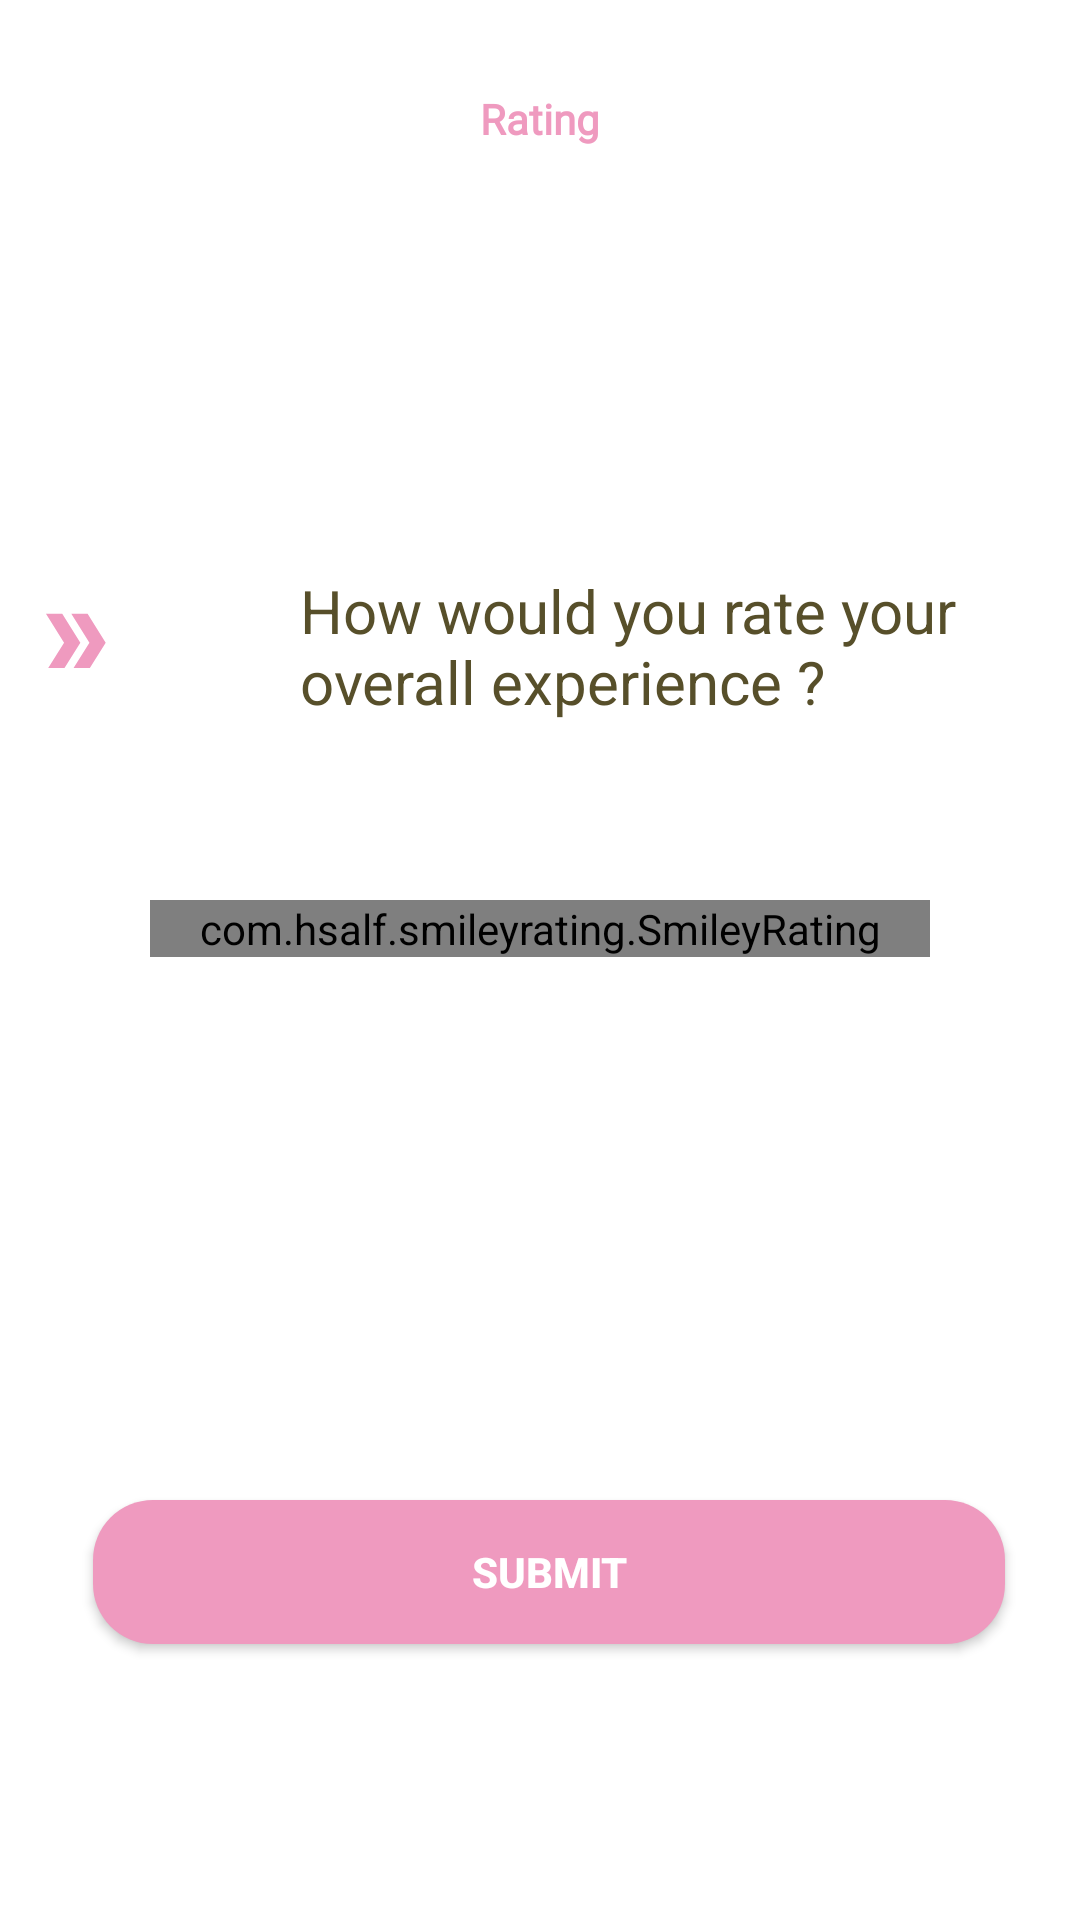

Where icons sit on this 1080px x 1920px app screen, as Rect(x1, y1, x2, y2):
arrow: Rect(46, 613, 106, 668)
